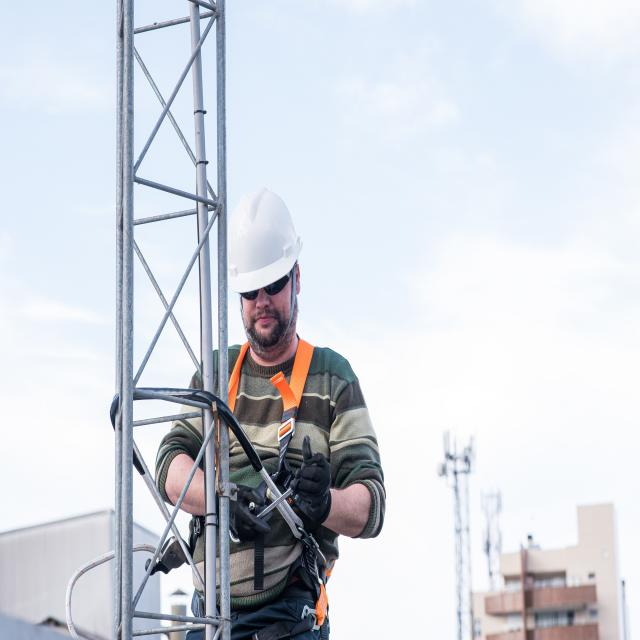capacete: (226, 181, 306, 297)
corda de vida: (181, 333, 339, 640)
luva: (212, 474, 273, 555), (288, 434, 336, 533)
